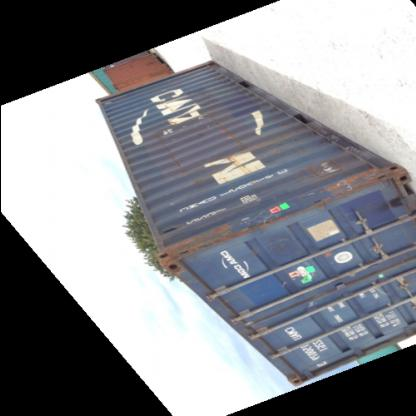Damage: (152, 216, 292, 256), (148, 128, 192, 178), (198, 108, 247, 148), (304, 185, 354, 212), (294, 156, 344, 182), (197, 284, 234, 315), (302, 124, 342, 152), (348, 164, 390, 190), (235, 318, 266, 346), (222, 152, 252, 180), (371, 193, 409, 215), (212, 74, 235, 90), (288, 370, 310, 385), (159, 102, 177, 118)
